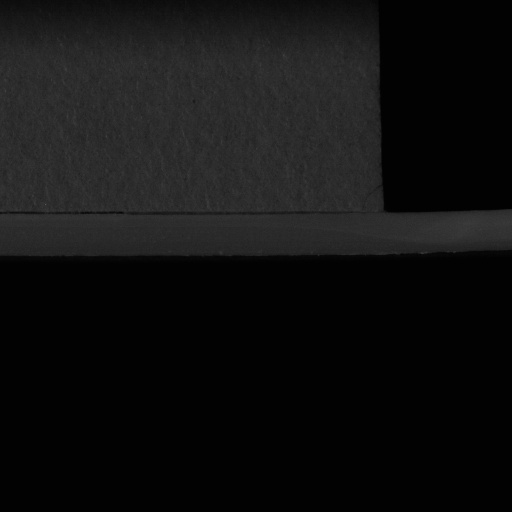changdai: (379, 206, 511, 258)
